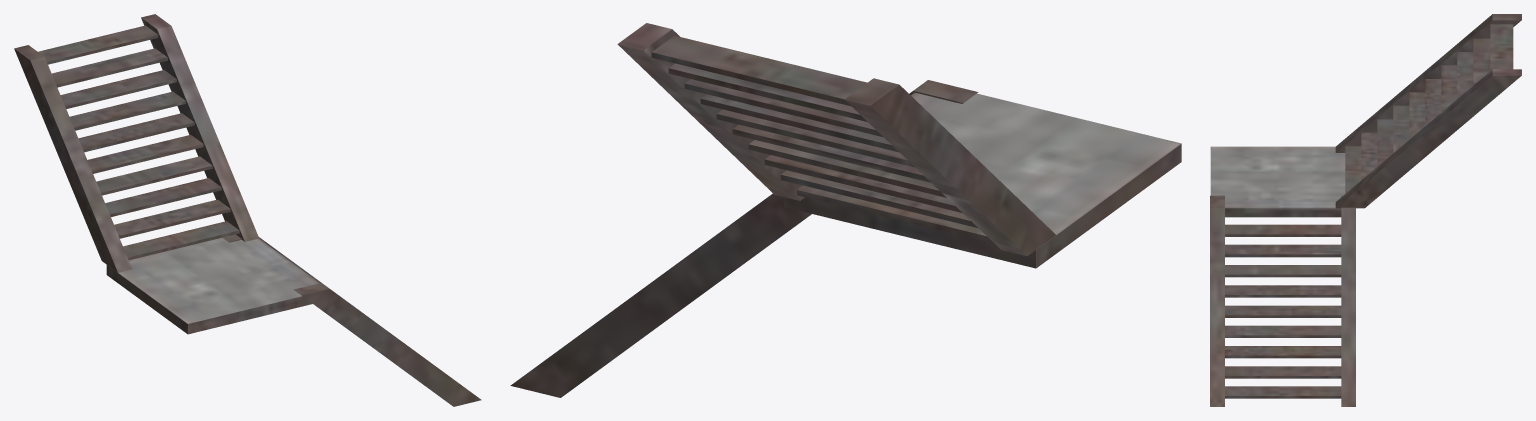
File: armored_stairs_l_shape_textured.glb
3 renders of one model, left to right at view 1: azimuth 30°, elevation 25°; view 2: azimuth 150°, elevation 25°; view 3: azimuth 270°, elevation 25°, orthographic. The views are drawn at different scales.
Visible parts, largest first — view 1: Cube.001; view 2: Cube.001; view 3: Cube.001.
Boxes of the visible parts, x1=… form: Cube.001: x1=14, y1=14, x2=481, y2=406; Cube.001: x1=510, y1=23, x2=1181, y2=397; Cube.001: x1=1210, y1=14, x2=1521, y2=406.
Bounding box in the file's own units: 2.08 × 2.01 × 2.14.
1 material, 1 textured.
